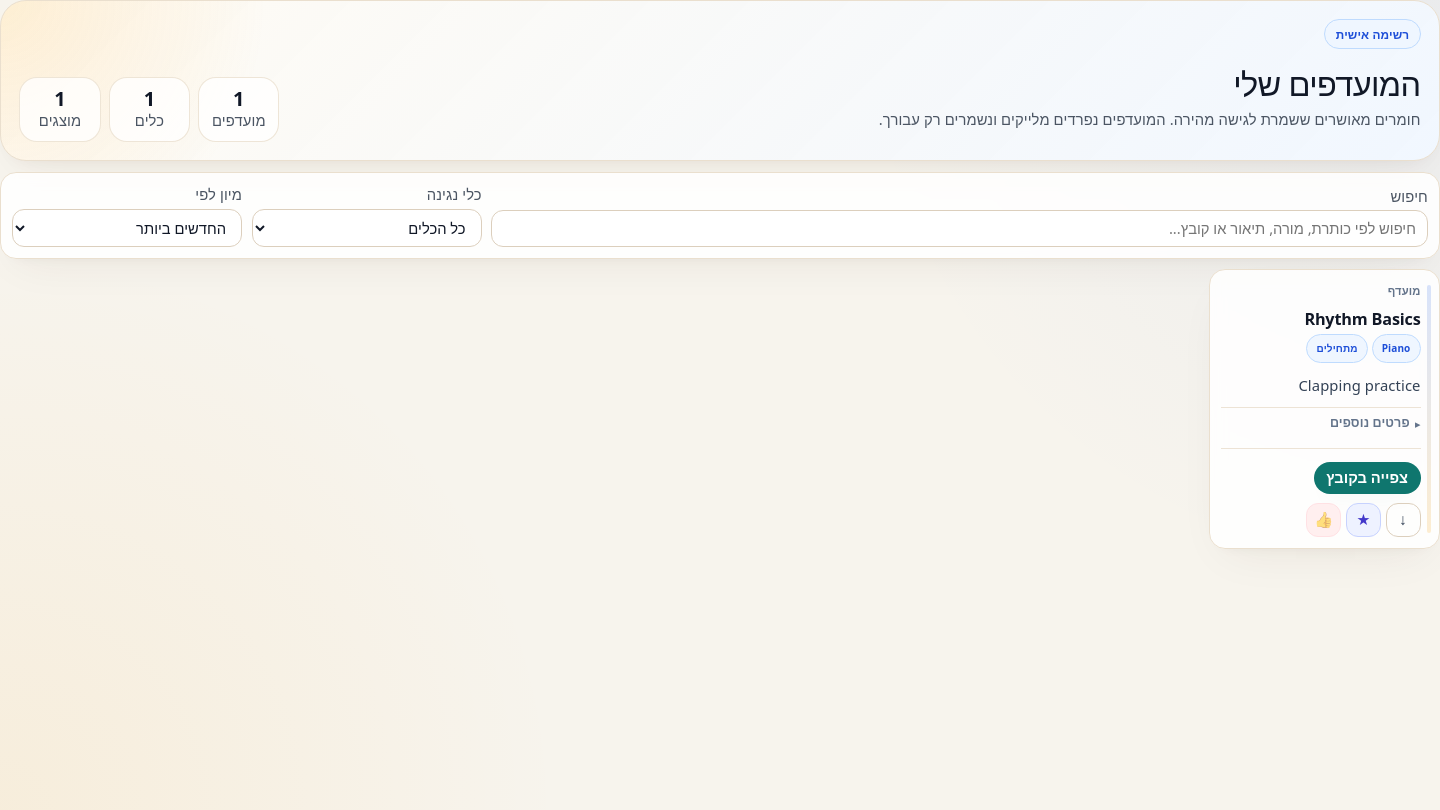
it: MyFavoritesPage › loads favorite materials and removes one from favorites
Expected: the heading "Rhythm Basics" is shown, [1304, 308, 1421, 330]
Click the button named "הסר מהמועדפים": (1363, 520) [1346, 502, 1381, 537]
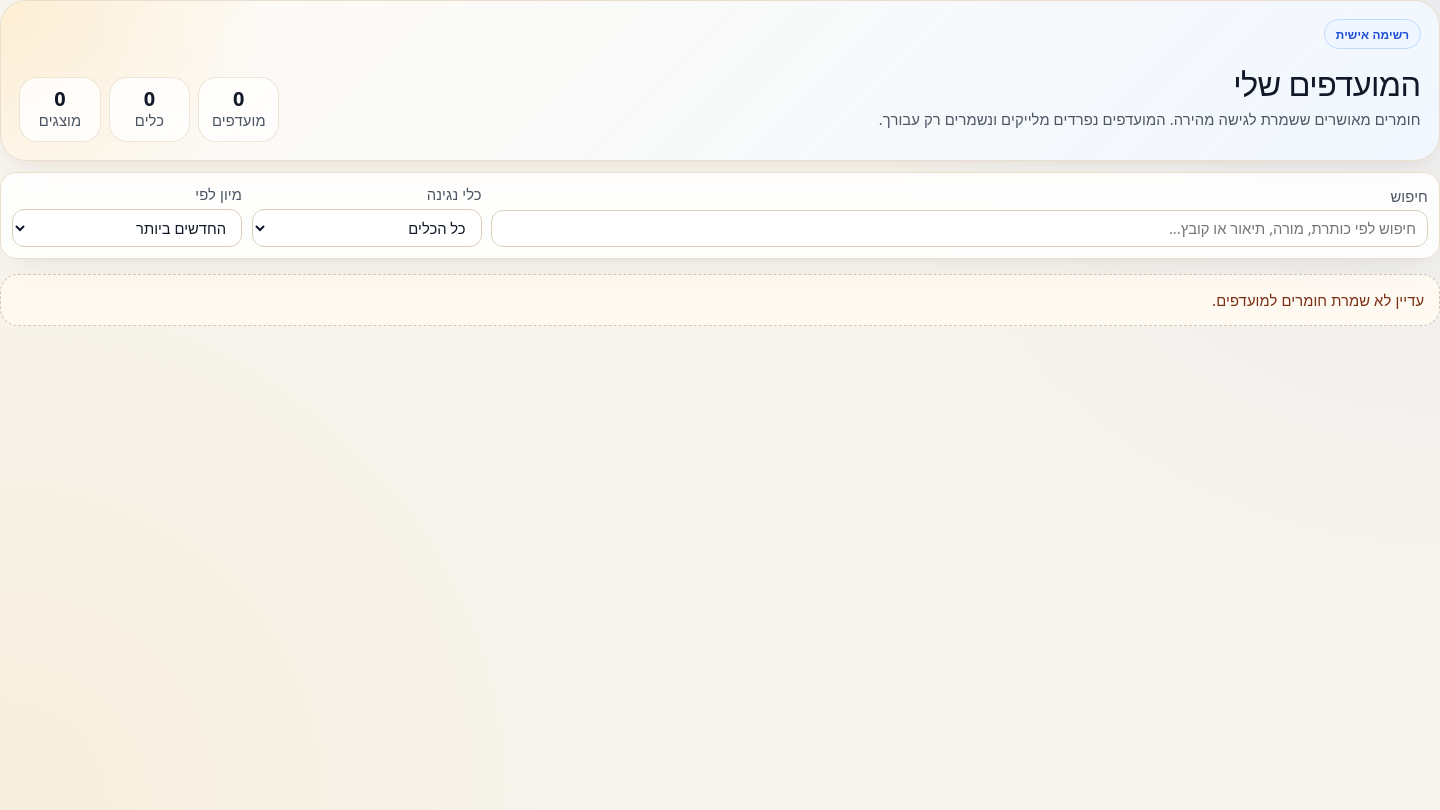
Expected: the heading "Rhythm Basics" is gone
